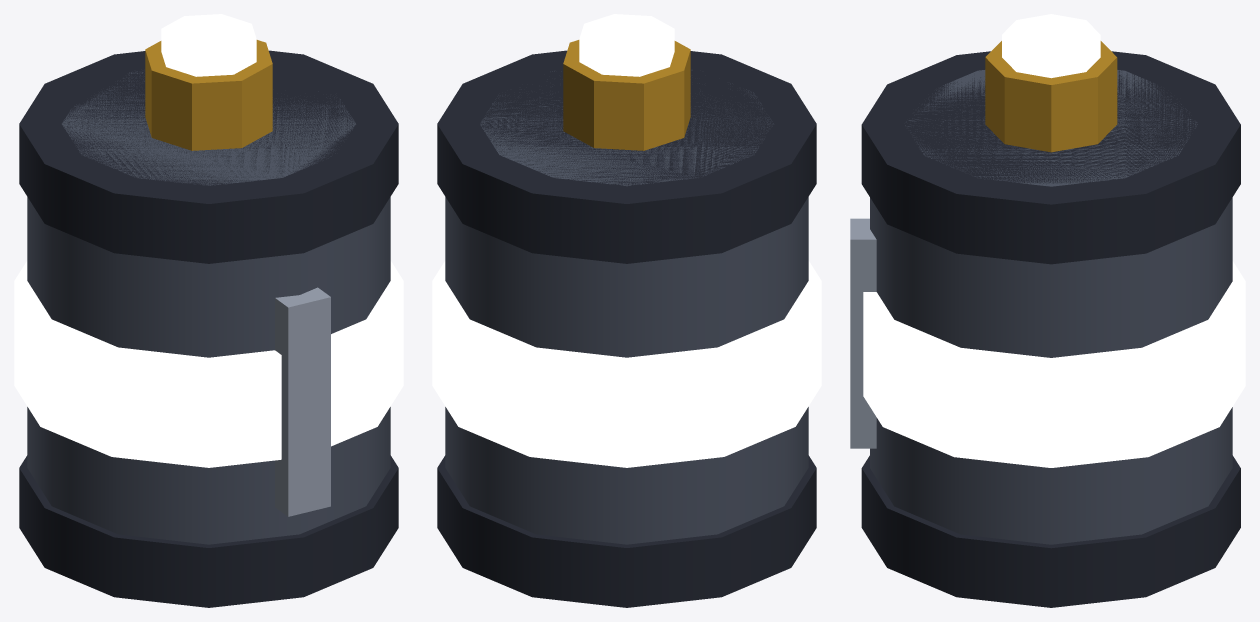
File: cg_cells.glb
3 renders of one model, left to right at view 1: azimuth 30°, elevation 25°; view 2: azimuth 150°, elevation 25°; view 3: azimuth 270°, elevation 25°, orthographic.
Visible parts, largest first — view 1: body, band_glow; view 2: body, band_glow; view 3: body, band_glow.
Part boxes in pixels (box(x1,y1,x2,y2)): body: box(19, 40, 398, 607); band_glow: box(14, 14, 403, 467); body: box(437, 40, 816, 607); band_glow: box(432, 14, 821, 467); body: box(850, 41, 1240, 607); band_glow: box(863, 14, 1245, 467).
Size of the model in its own units: 0.236 by 0.34 by 0.24.
